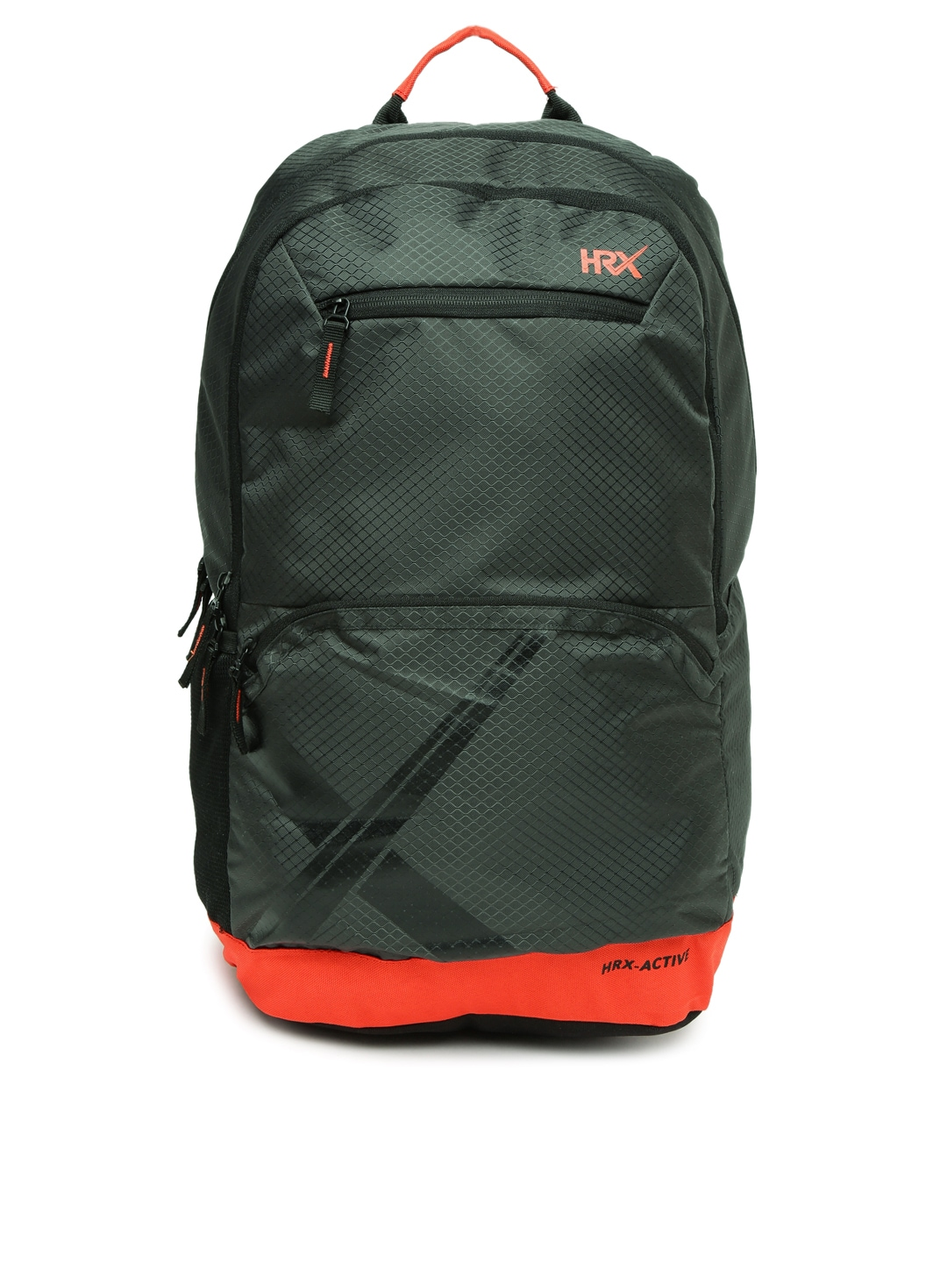backpack: (177, 24, 758, 1038)
